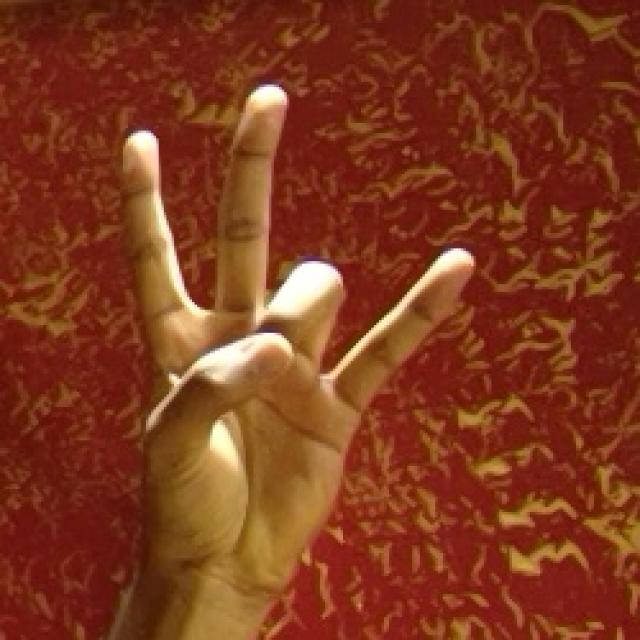Numeric-7: (122, 83, 474, 612)
